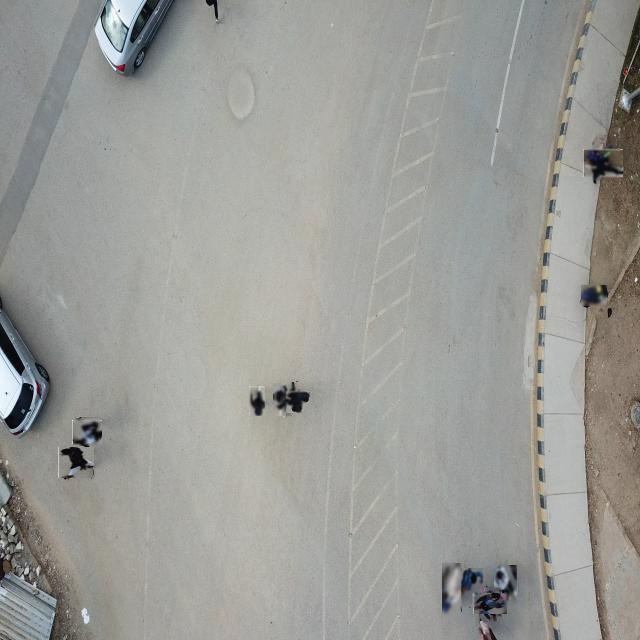Manusia: (586, 146, 621, 181), (60, 446, 94, 481), (456, 568, 484, 608), (442, 564, 462, 618), (494, 565, 518, 607), (74, 418, 102, 447), (477, 590, 505, 619), (581, 286, 608, 308), (283, 386, 307, 410), (249, 386, 266, 417), (273, 383, 287, 417)
